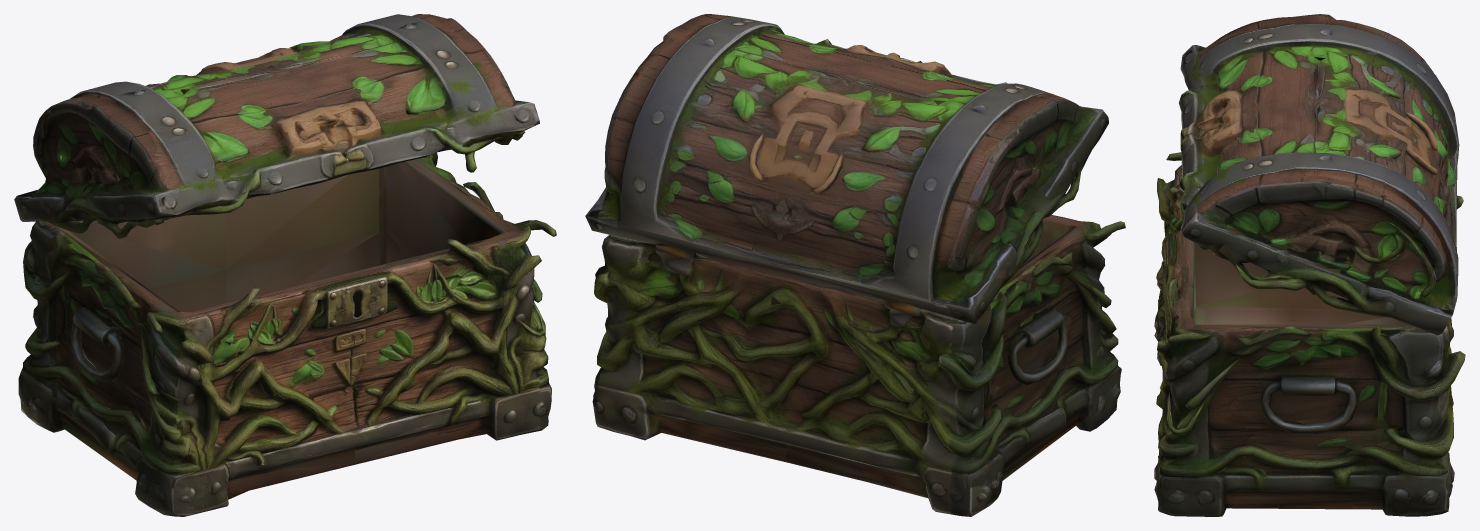
Rendered from chest-overgrown.glb.
3 views of the same model, side by side, from view 1: azimuth 30°, elevation 25°; view 2: azimuth 150°, elevation 25°; view 3: azimuth 270°, elevation 25° (orthographic). The views are drawn at different scales.
Size of the model in its own units: 1.95 by 1.61 by 1.35.
Materials: 1 (1 with a texture image).
